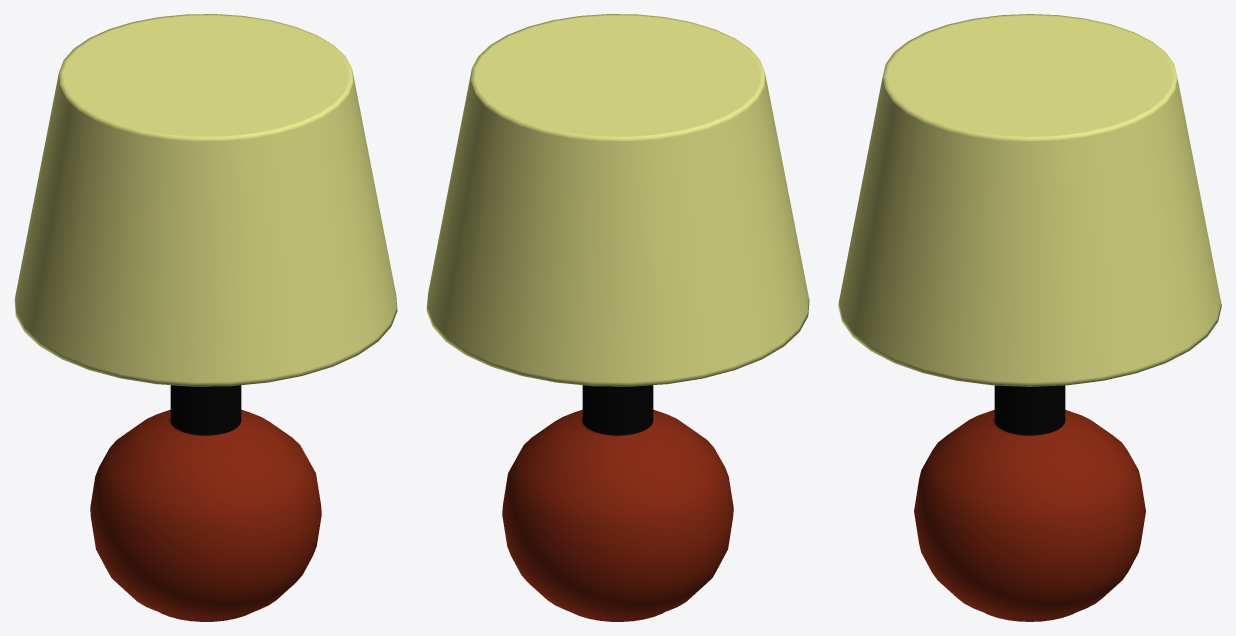
The model's file is BedroomLamp.fbx.
3 views of the same model, side by side, from view 1: azimuth 30°, elevation 25°; view 2: azimuth 150°, elevation 25°; view 3: azimuth 270°, elevation 25° (orthographic).
Parts seen in each view (by area): view 1: Cylinder; view 2: Cylinder; view 3: Cylinder.
Part boxes in pixels (box(x1,y1,x2,y2)): Cylinder: box(14, 14, 397, 621); Cylinder: box(426, 14, 809, 621); Cylinder: box(838, 14, 1221, 621).
Bounding box in the file's own units: 200 × 299 × 200.
